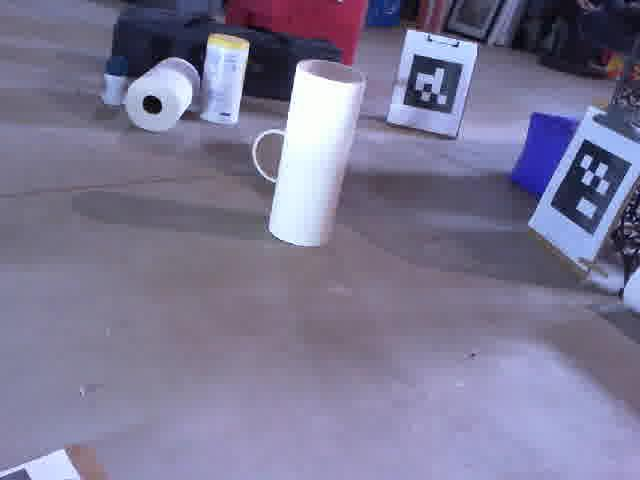coral: (266, 56, 369, 250), (250, 122, 289, 188)
